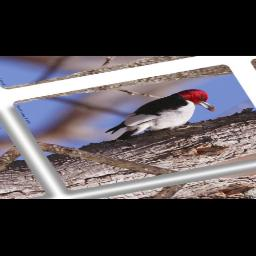Woodpecker: (89, 87, 227, 144)
